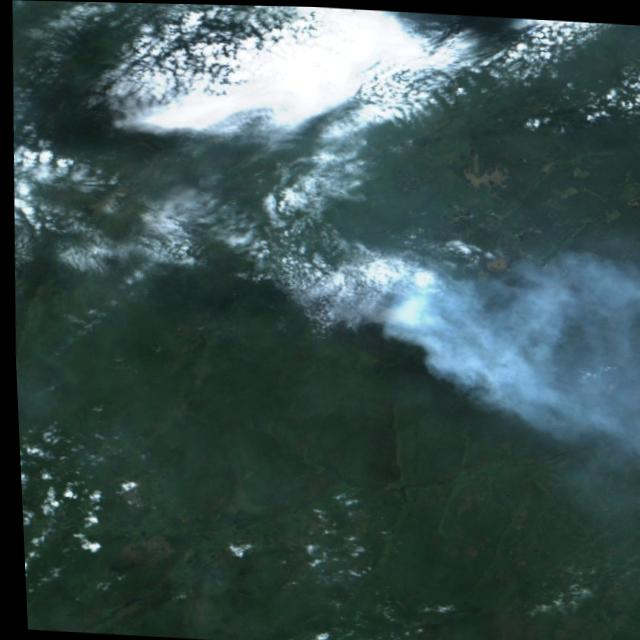fire: (280, 257, 407, 333)
